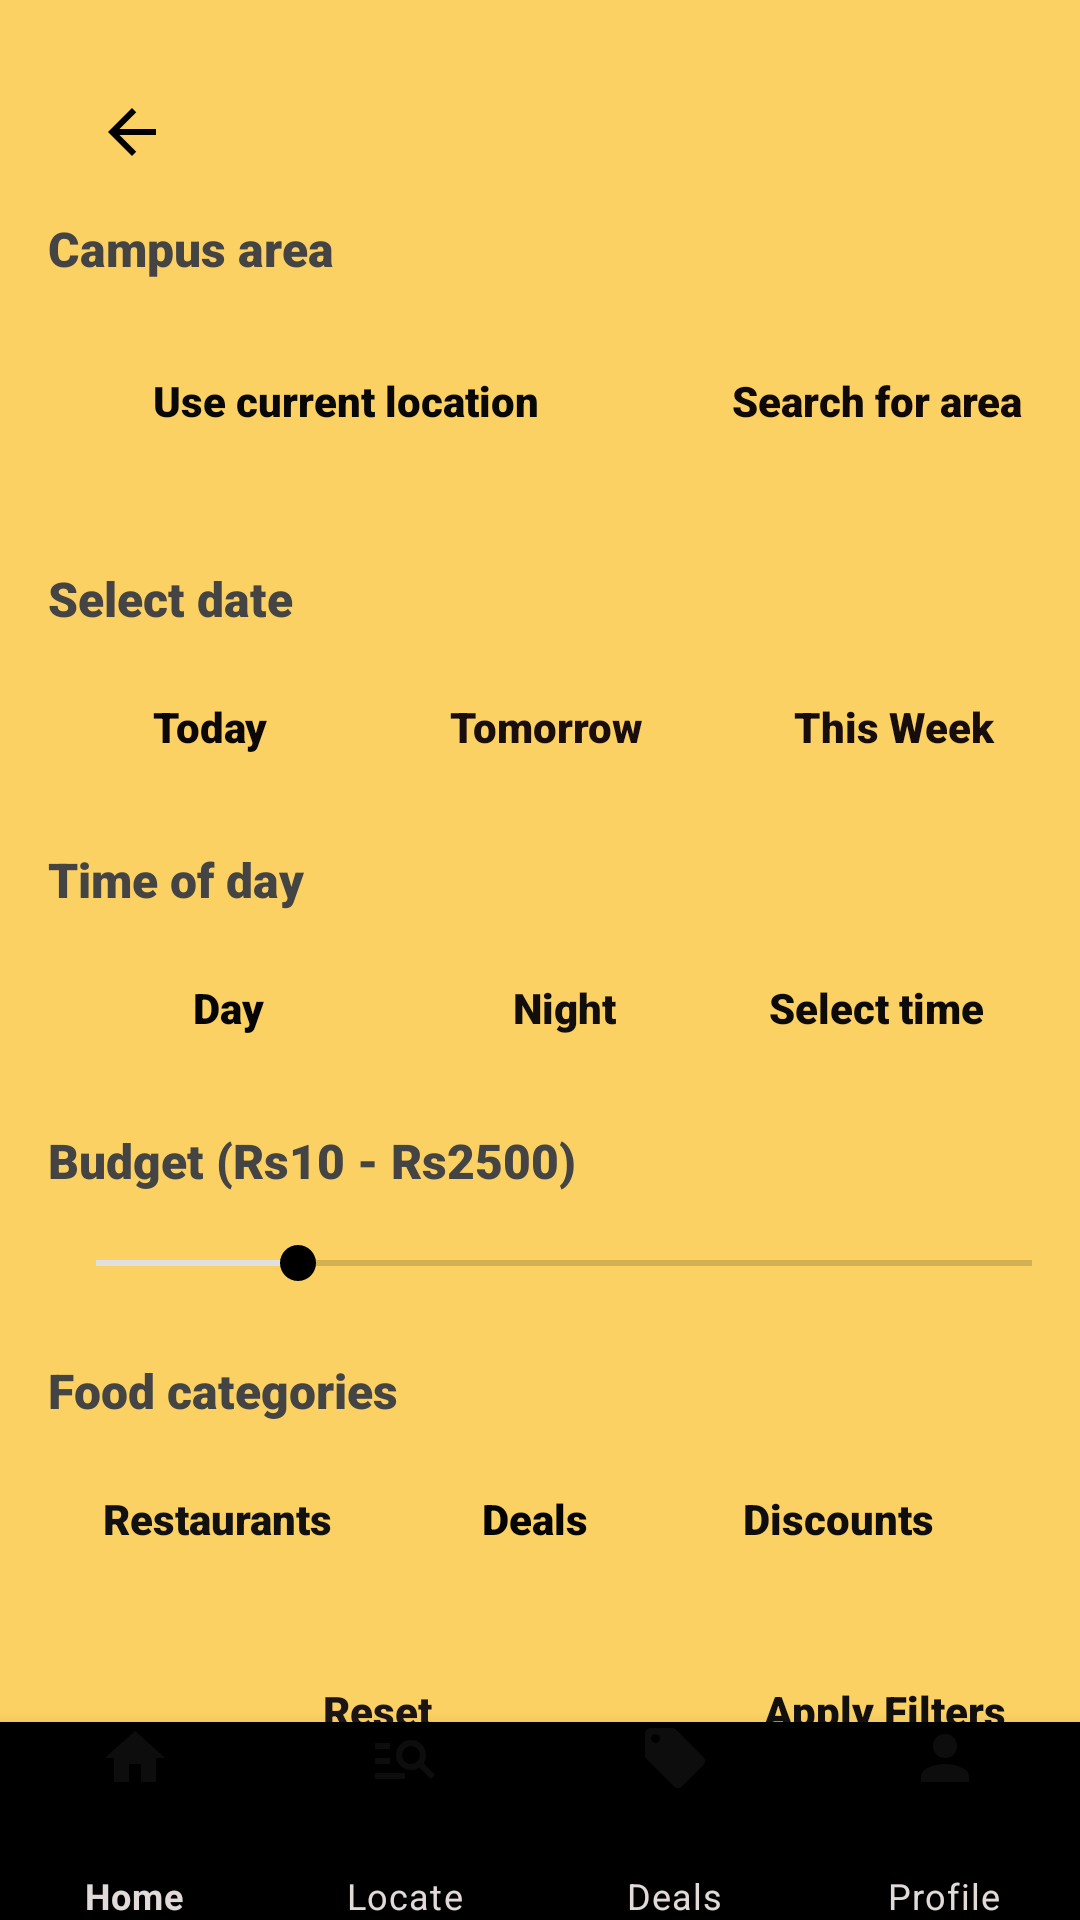

Icons on this 1080 x 1920 Android screen, each with its box as (x1, y1, x2, y2):
arrow back: (108, 108, 156, 156)
